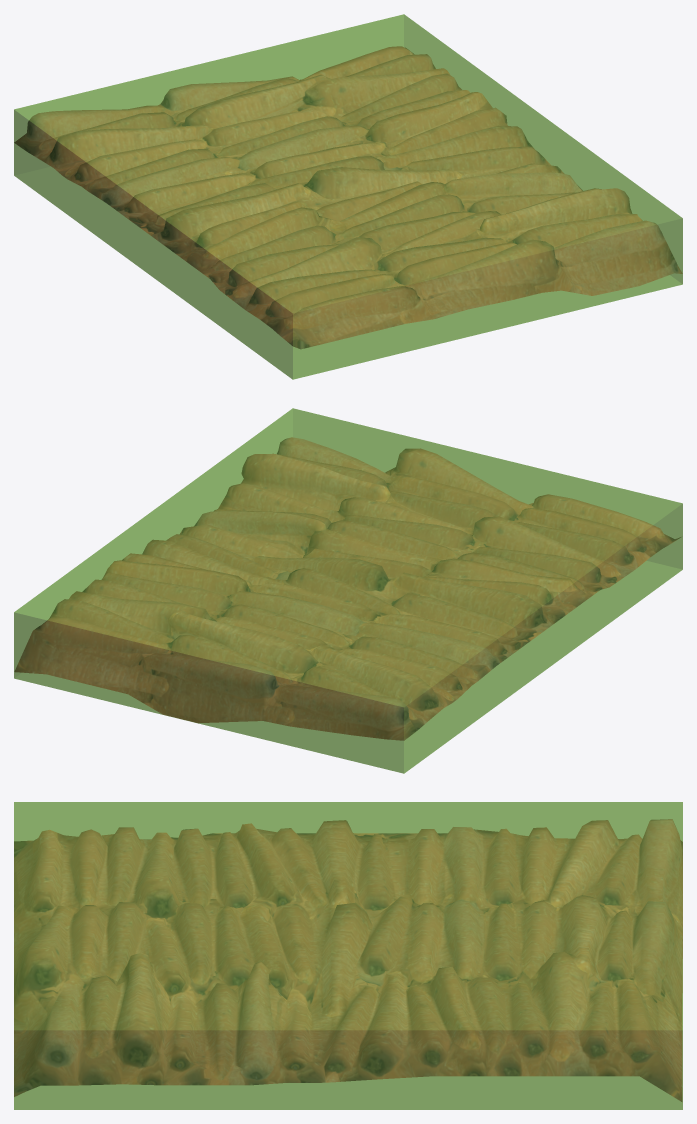
The model's file is pg_Carrot_Pile_01.fbx.
3 views of the same model, one above another, from view 1: azimuth 30°, elevation 25°; view 2: azimuth 150°, elevation 25°; view 3: azimuth 270°, elevation 25° (orthographic). The views are drawn at different scales.
Parts seen in each view (by area): view 1: pg_Carrot_Pile_01_a_col, pg_Carrot_Pile_01_a_LOD0; view 2: pg_Carrot_Pile_01_a_col, pg_Carrot_Pile_01_a_LOD0; view 3: pg_Carrot_Pile_01_a_col, pg_Carrot_Pile_01_a_LOD0.
Boxes of the visible parts, x1,y1,x2,y2 form: pg_Carrot_Pile_01_a_col: [14, 14, 682, 379]; pg_Carrot_Pile_01_a_LOD0: [14, 46, 682, 349]; pg_Carrot_Pile_01_a_col: [14, 408, 682, 773]; pg_Carrot_Pile_01_a_LOD0: [14, 437, 680, 740]; pg_Carrot_Pile_01_a_col: [14, 802, 682, 1109]; pg_Carrot_Pile_01_a_LOD0: [14, 819, 682, 1101].
Size of what is drawn, in the model's own units: 47.7 by 7.74 by 59.05.
